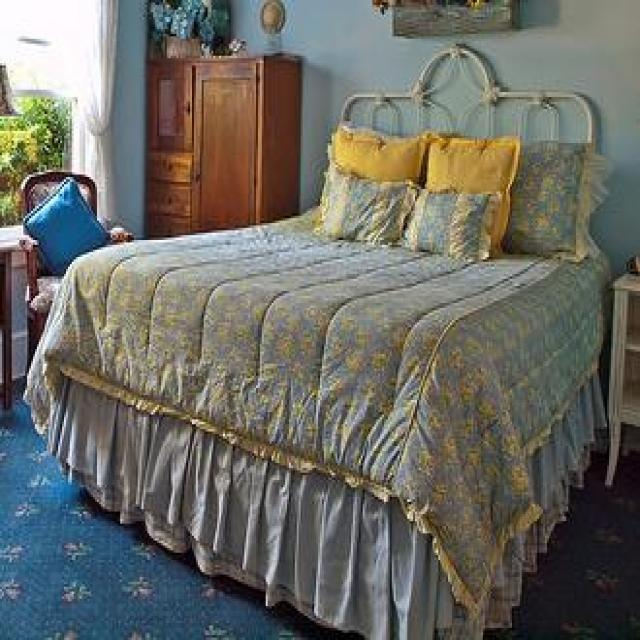bed: (25, 42, 613, 640)
